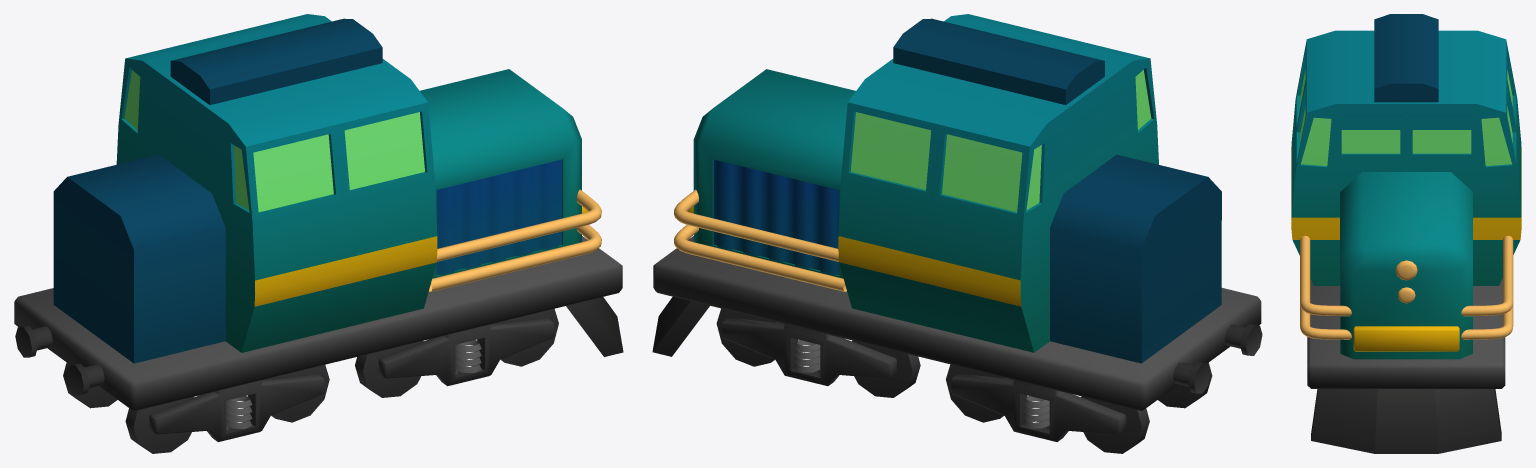
File: Vehicle_Train_A_01.fbx
3 views of the same model, side by side, from view 1: azimuth 30°, elevation 25°; view 2: azimuth 150°, elevation 25°; view 3: azimuth 270°, elevation 25° (orthographic). The views are drawn at different scales.
Visible parts, largest first — view 1: Vehicle_Train_A_01; view 2: Vehicle_Train_A_01; view 3: Vehicle_Train_A_01.
Boxes of the visible parts, x1,y1,x2,y2 form: Vehicle_Train_A_01: (14,14,623,453); Vehicle_Train_A_01: (652,14,1262,453); Vehicle_Train_A_01: (1291,14,1521,453).
Size of the model in its own units: 395 by 237 by 173.
